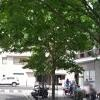Tree: (21, 2, 100, 68)
